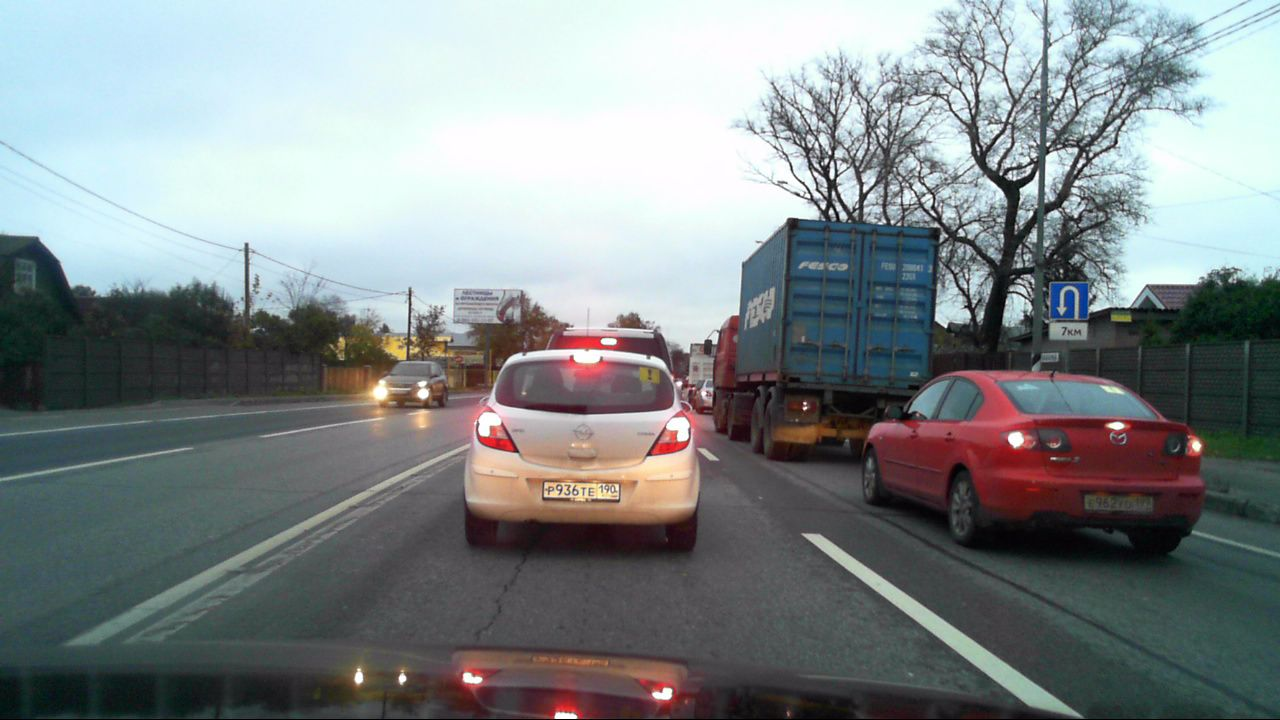U-turn: (1049, 282, 1088, 320)
